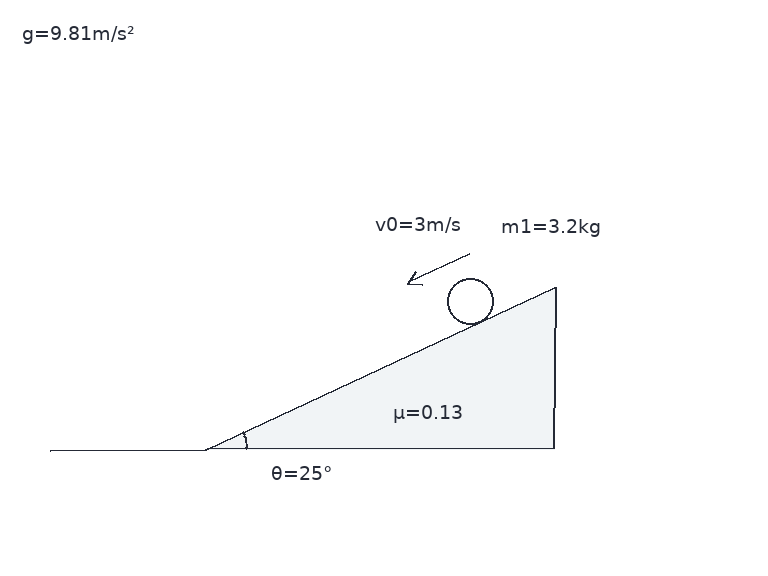ball: (445, 276, 495, 326)
ramp: (205, 285, 556, 451)
